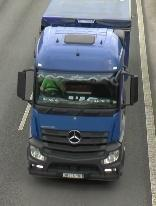truck: (18, 0, 138, 182)
